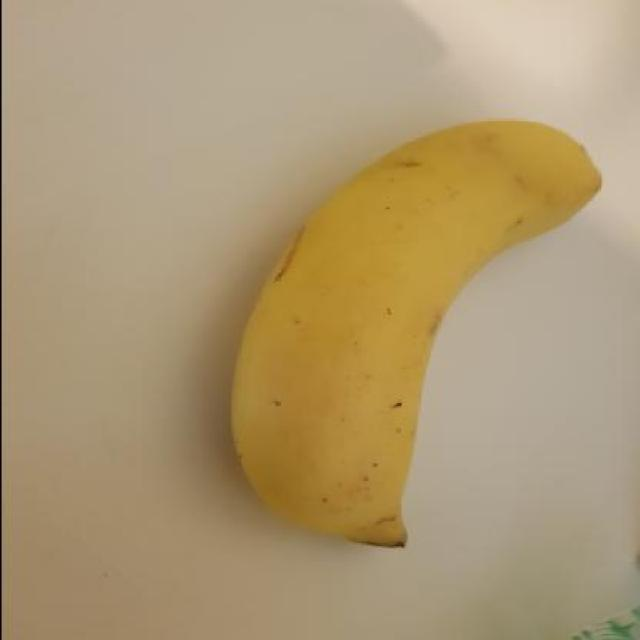Banana: (217, 112, 611, 552)
